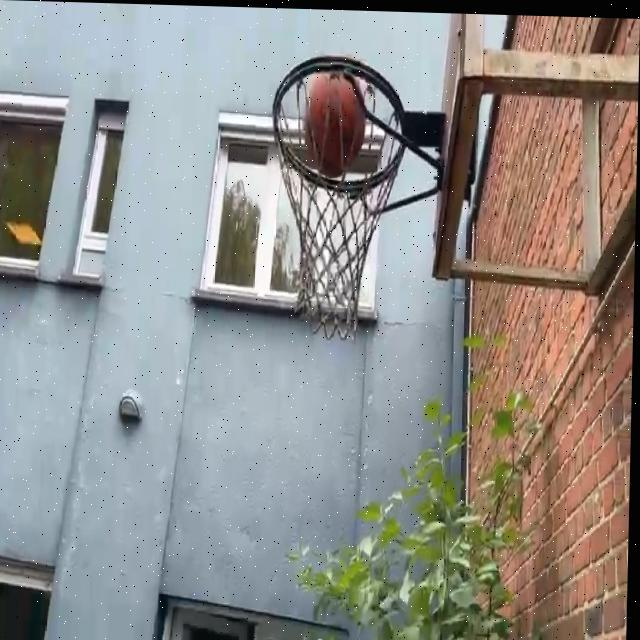Basketball: (303, 68, 366, 174)
